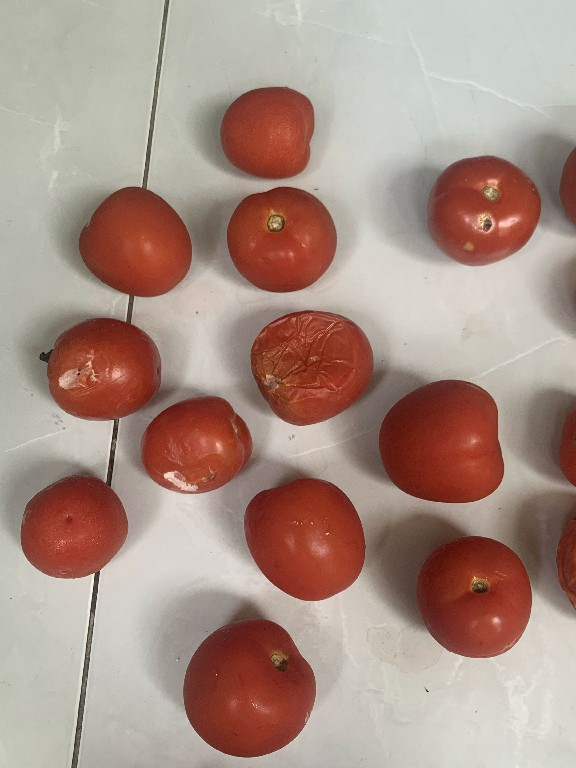NG: (250, 311, 379, 428), (35, 312, 166, 422), (422, 148, 540, 269), (136, 396, 259, 497)
OK: (183, 614, 323, 763), (372, 372, 511, 512), (239, 476, 376, 607), (73, 180, 229, 294), (413, 532, 542, 661), (221, 183, 347, 296), (17, 468, 134, 581), (216, 83, 329, 183)
